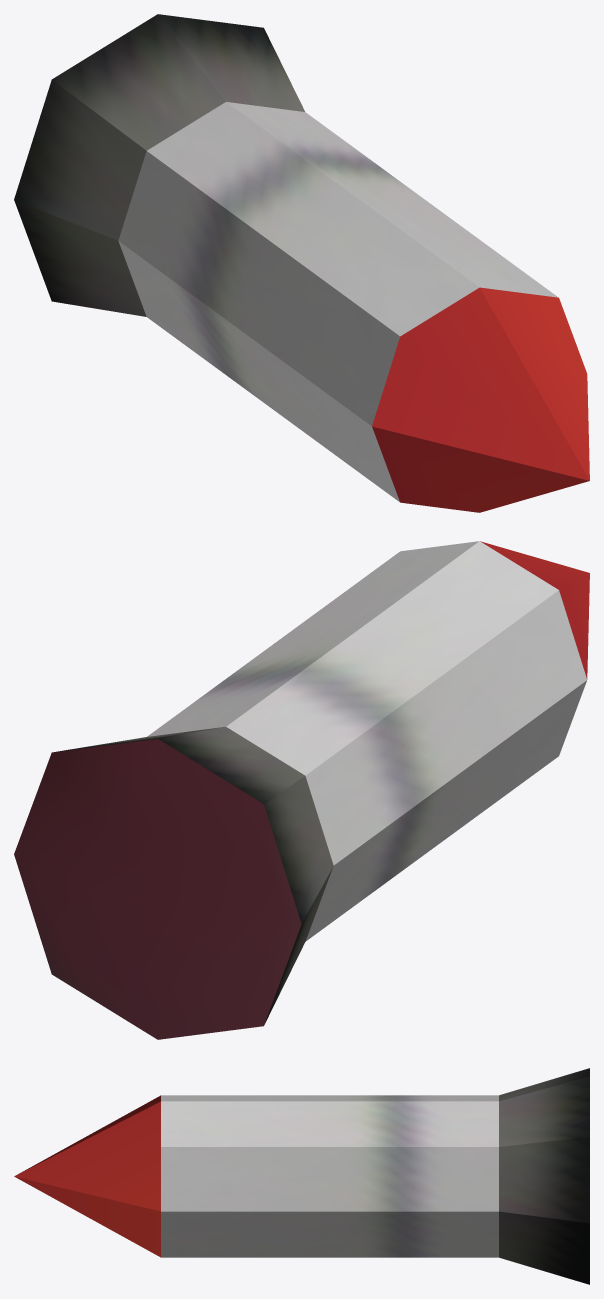
File: missile.obj
3 views of the same model, one above another, from view 1: azimuth 30°, elevation 25°; view 2: azimuth 150°, elevation 25°; view 3: azimuth 270°, elevation 25° (orthographic). The views are drawn at different scales.
Parts seen in each view (by area): view 1: Missile_Cube.045; view 2: Missile_Cube.045; view 3: Missile_Cube.045.
Part boxes in pixels (x1=…): Missile_Cube.045: x1=14, y1=14, x2=589, y2=512; Missile_Cube.045: x1=14, y1=541, x2=589, y2=1039; Missile_Cube.045: x1=14, y1=1068, x2=589, y2=1284.
Bounding box in the file's own units: 2.01 × 2.01 × 5.23.
